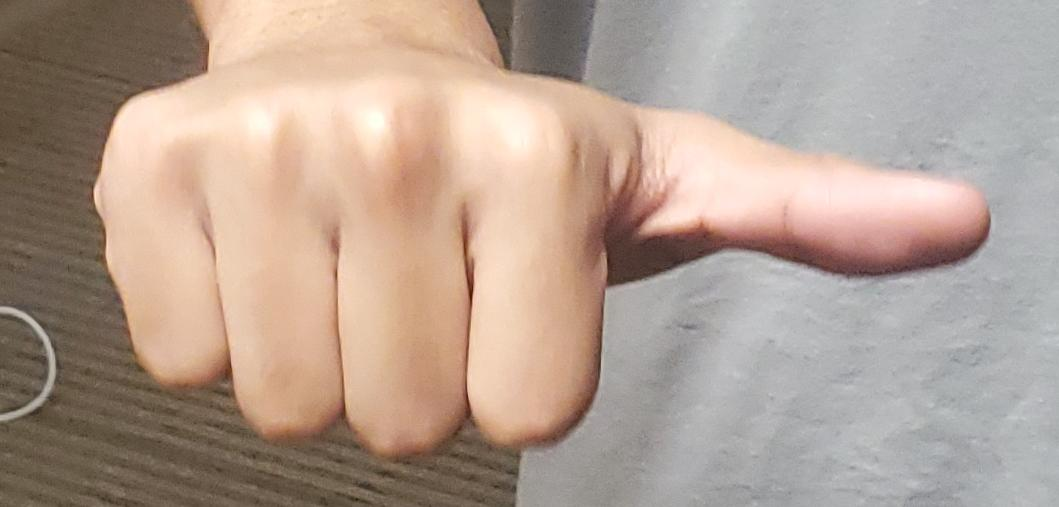left: (1, 0, 1059, 507)
